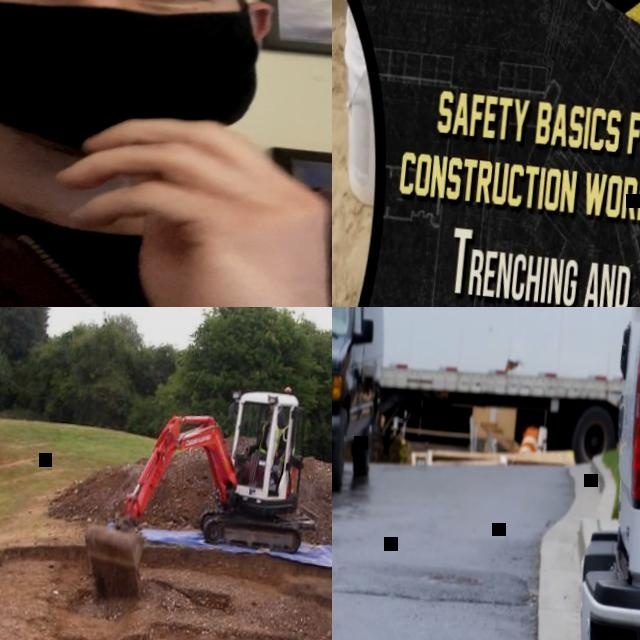Hardhat: (268, 403, 281, 413)
Mask: (0, 0, 271, 164)
NO-Safety Vest: (0, 148, 332, 307)
Person: (0, 0, 332, 307), (240, 399, 288, 482)
Safety Cone: (519, 426, 540, 457)
Safety Vest: (258, 416, 285, 457)
machinery: (74, 367, 316, 625)
vehicle: (502, 307, 640, 640), (332, 307, 395, 499)
